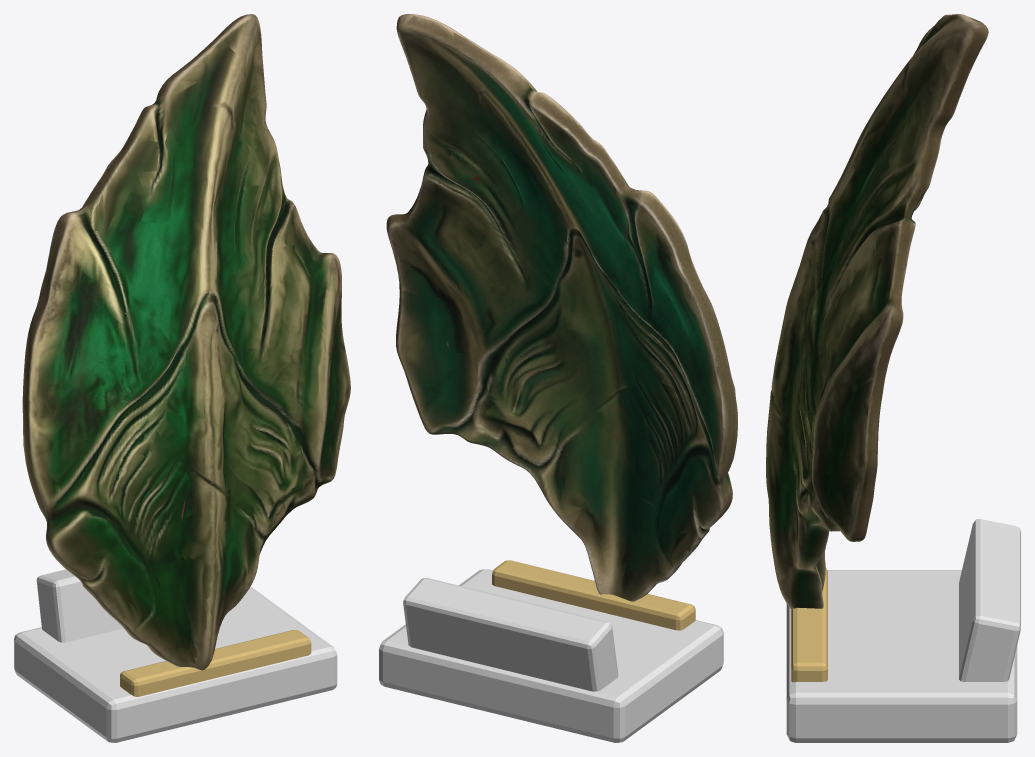
The model's file is Item_V10.fbx.
3 renders of one model, left to right at view 1: azimuth 30°, elevation 25°; view 2: azimuth 150°, elevation 25°; view 3: azimuth 270°, elevation 25°, orthographic. The views are drawn at different scales.
Parts seen in each view (by area): view 1: Body_V10, StandBase, StandFrontLip, StandBackLip; view 2: Body_V10, StandBase, StandBackLip, StandFrontLip; view 3: Body_V10, StandBase, StandBackLip, StandFrontLip.
Part boxes in pixels (left/top/right/bottom): Body_V10: left=22, top=14, right=350, bottom=670; StandBase: left=14, top=586, right=337, bottom=742; StandFrontLip: left=120, top=630, right=311, bottom=696; StandBackLip: left=36, top=569, right=123, bottom=642; Body_V10: left=386, top=14, right=737, bottom=601; StandBase: left=379, top=569, right=723, bottom=742; StandBackLip: left=403, top=577, right=618, bottom=691; StandFrontLip: left=492, top=560, right=695, bottom=630; Body_V10: left=766, top=14, right=988, bottom=609; StandBase: left=786, top=570, right=1017, bottom=742; StandBackLip: left=959, top=519, right=1020, bottom=681; StandFrontLip: left=791, top=568, right=827, bottom=682.
Bounding box in the file's own units: 0.1392 × 0.258 × 0.0829.
